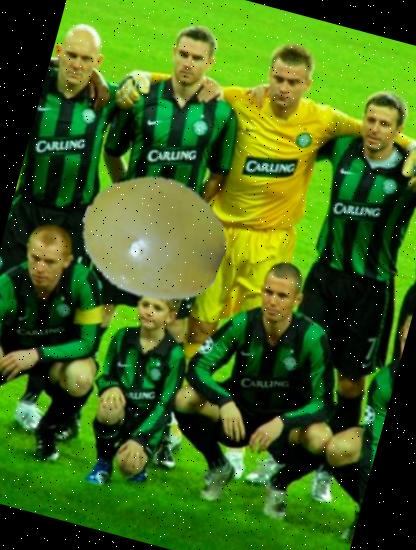Grape: (64, 148, 244, 327)
